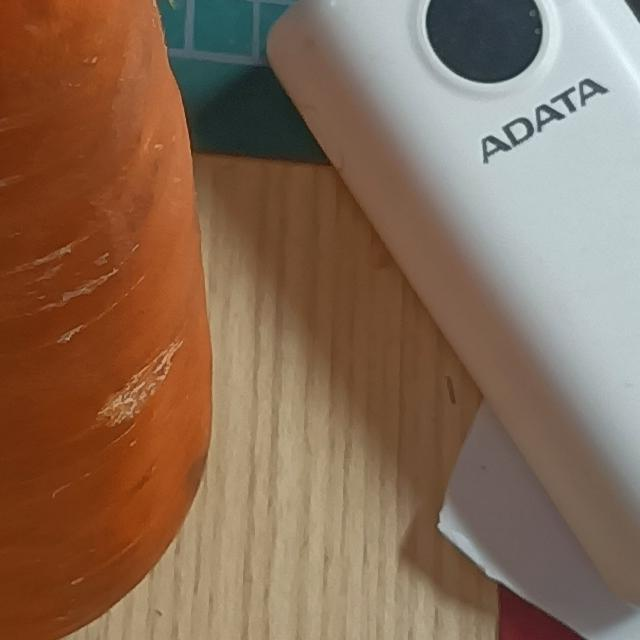carrot: (1, 1, 230, 640)
